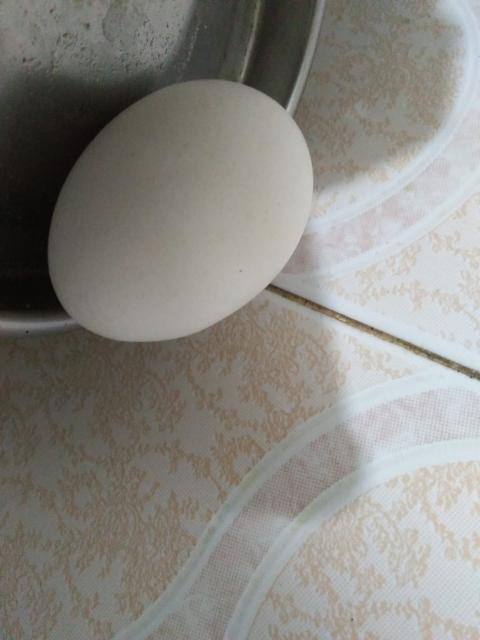Sano: (51, 78, 314, 345)
